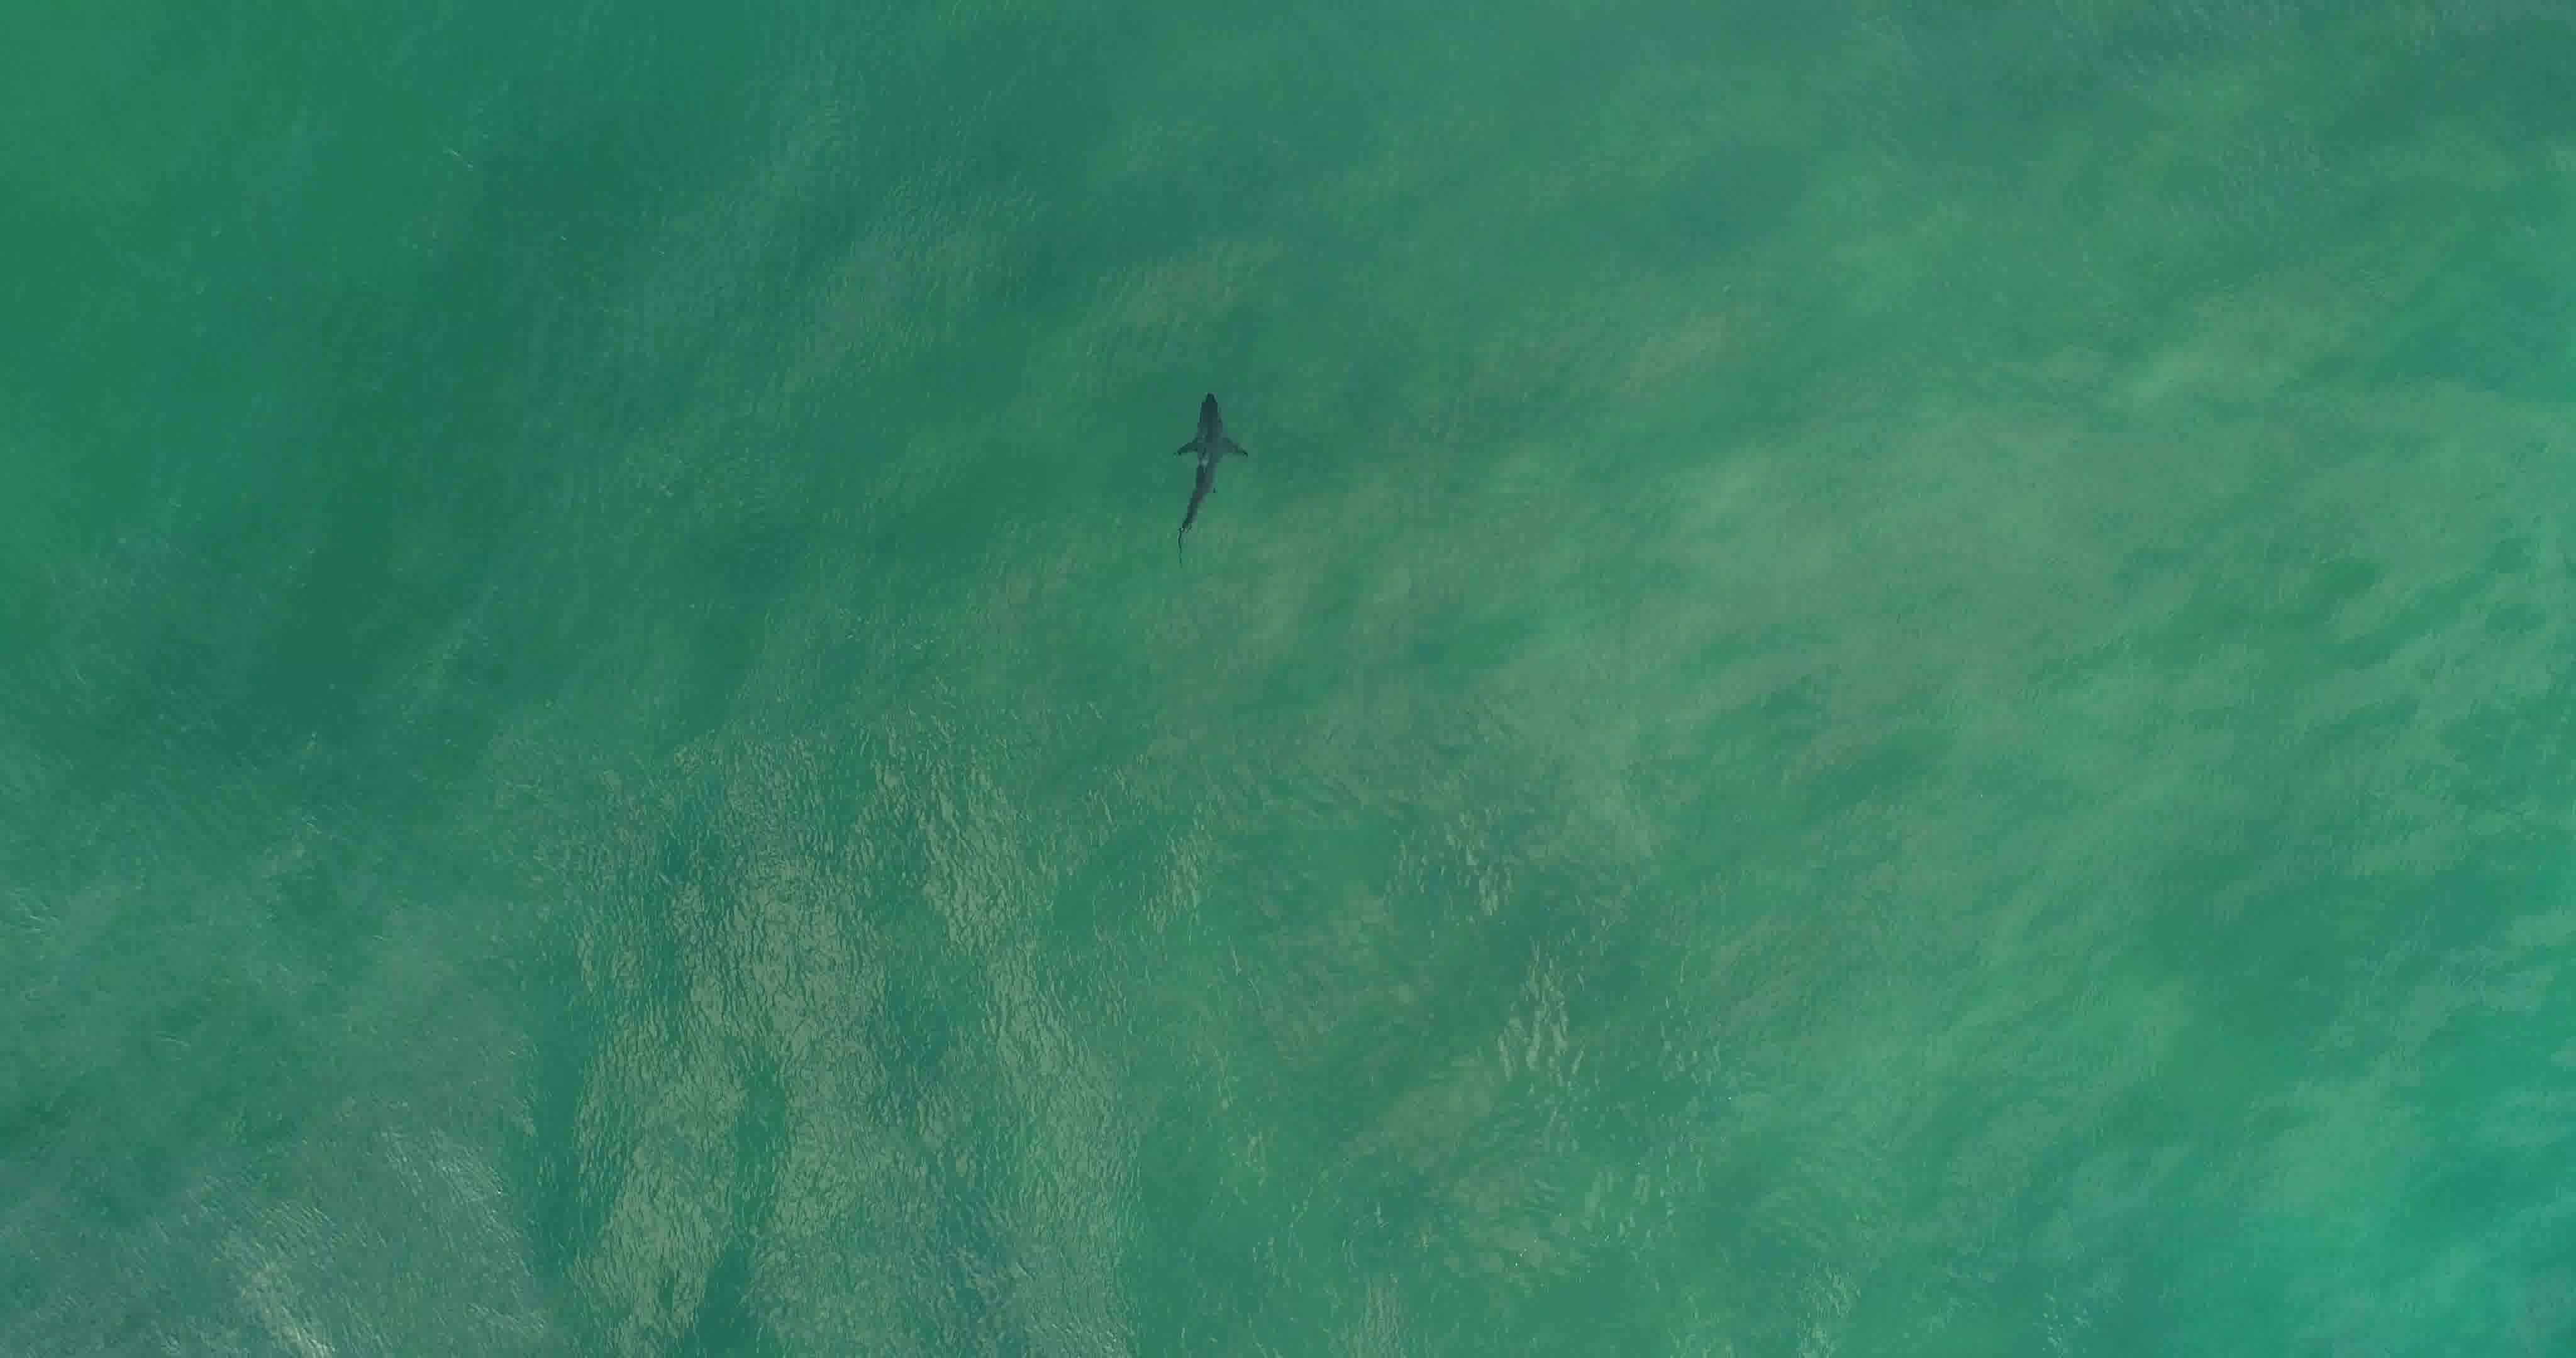shark: (1169, 387, 1249, 564)
